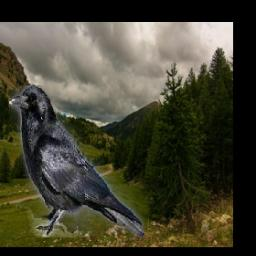Crow: (9, 86, 144, 238)
